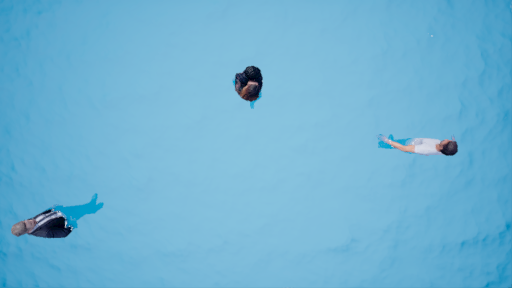person: (8, 197, 109, 237), (373, 132, 462, 157), (232, 62, 268, 114)
